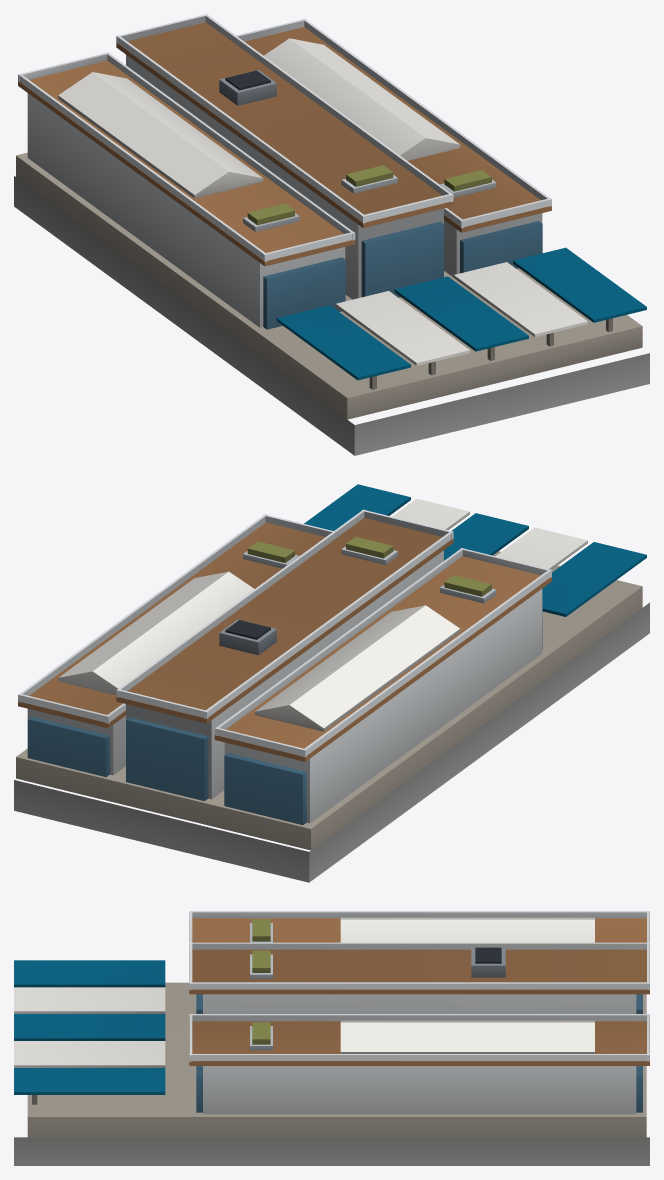
Rendered from retail-block.glb.
3 views of the same model, one above another, from view 1: azimuth 30°, elevation 25°; view 2: azimuth 150°, elevation 25°; view 3: azimuth 270°, elevation 25° (orthographic). The views are drawn at different scales.
Visible parts, largest first — view 1: retail-block; view 2: retail-block; view 3: retail-block.
Part boxes in pixels (x1,y1,x2,y2): retail-block: [14, 14, 649, 455]; retail-block: [14, 484, 649, 882]; retail-block: [14, 911, 649, 1165].
Bounding box in the file's own units: 30 × 15 × 60.
